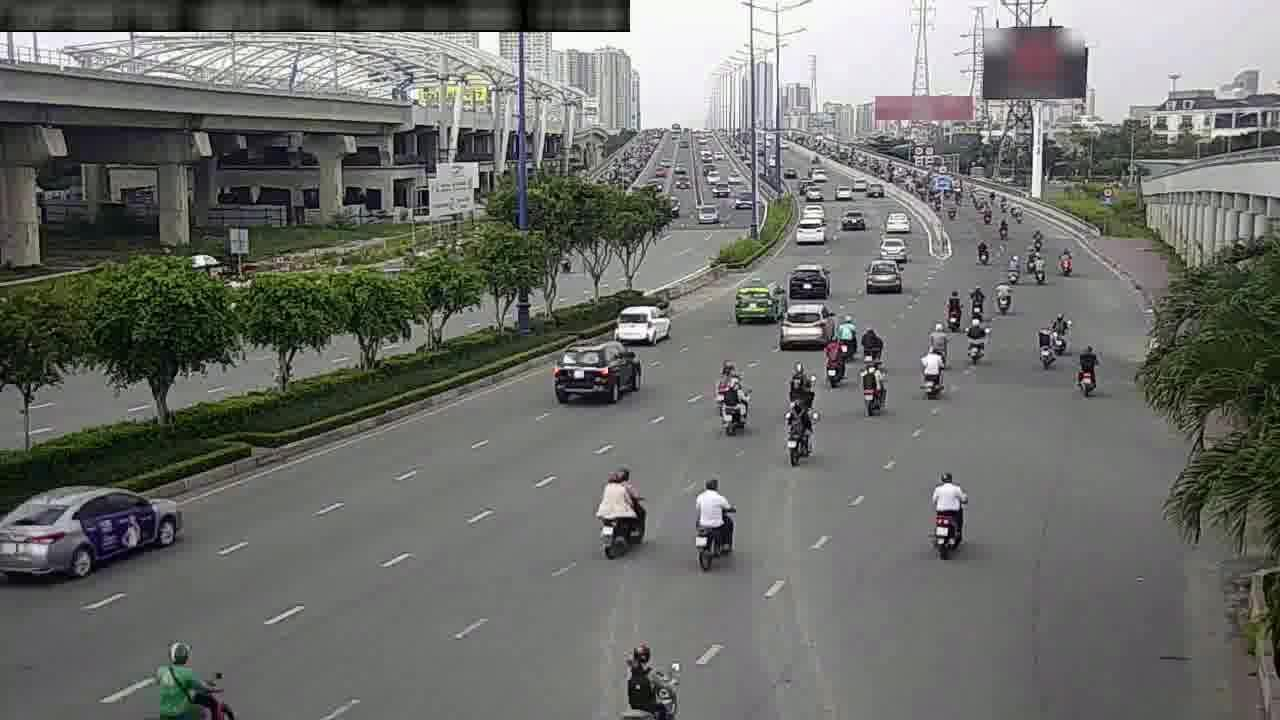container: (8, 483, 182, 579), (550, 338, 645, 405), (610, 296, 675, 348), (781, 298, 832, 347), (733, 280, 780, 320), (863, 256, 906, 295), (785, 263, 829, 301), (789, 217, 823, 247), (880, 227, 907, 260), (882, 209, 909, 236), (839, 204, 866, 229)
motorbike: (151, 646, 238, 720), (594, 471, 652, 554), (686, 481, 740, 565), (918, 475, 972, 552), (775, 400, 817, 466), (716, 376, 752, 434), (1069, 343, 1101, 398), (857, 360, 889, 411), (917, 345, 946, 398), (1032, 319, 1060, 367), (820, 340, 847, 386), (963, 318, 988, 364), (832, 315, 858, 353), (860, 325, 885, 363), (940, 291, 963, 330), (1051, 314, 1072, 350), (925, 318, 947, 352), (994, 276, 1013, 312), (967, 285, 986, 320), (1056, 246, 1073, 277), (1028, 251, 1045, 282), (975, 236, 991, 265), (1005, 252, 1021, 280), (995, 214, 1008, 237)
